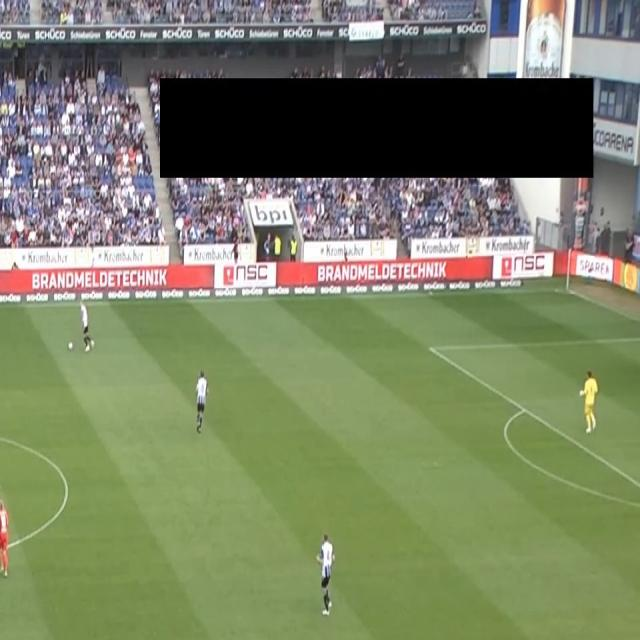ball: (67, 340, 74, 351)
